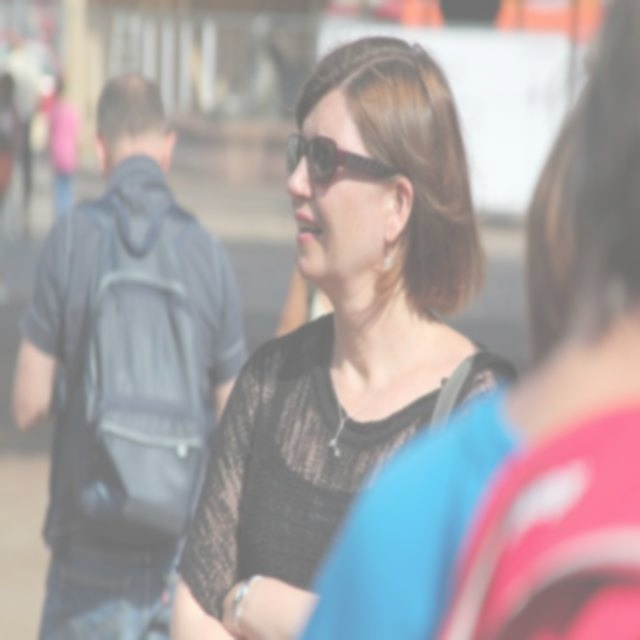pessoa: (160, 26, 523, 639), (290, 4, 639, 639), (7, 61, 257, 639), (512, 91, 596, 372), (0, 55, 84, 242), (280, 258, 336, 340)
